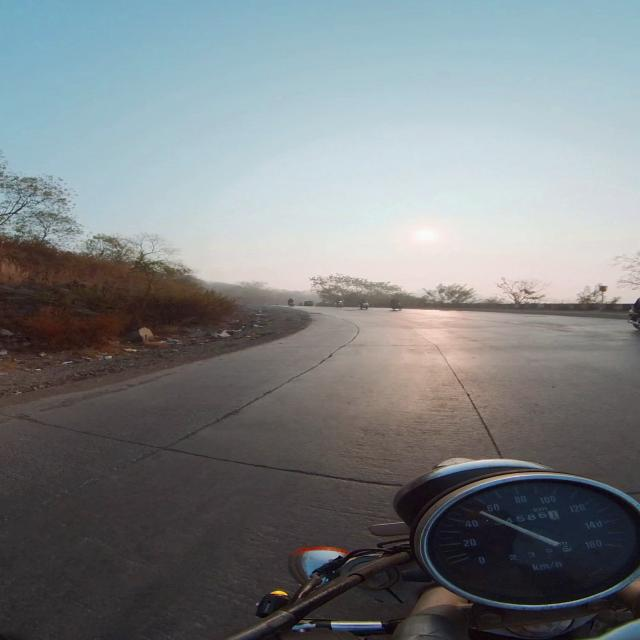motorcycle: (228, 459, 639, 639), (628, 310, 639, 329), (360, 302, 369, 309), (336, 301, 343, 307)
